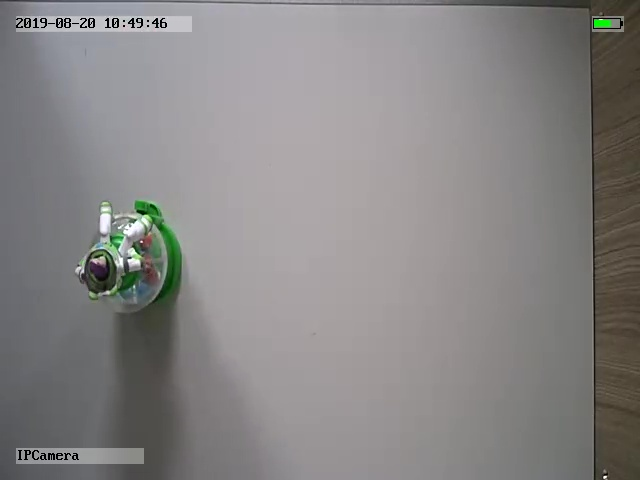buzz: (73, 198, 186, 317)
